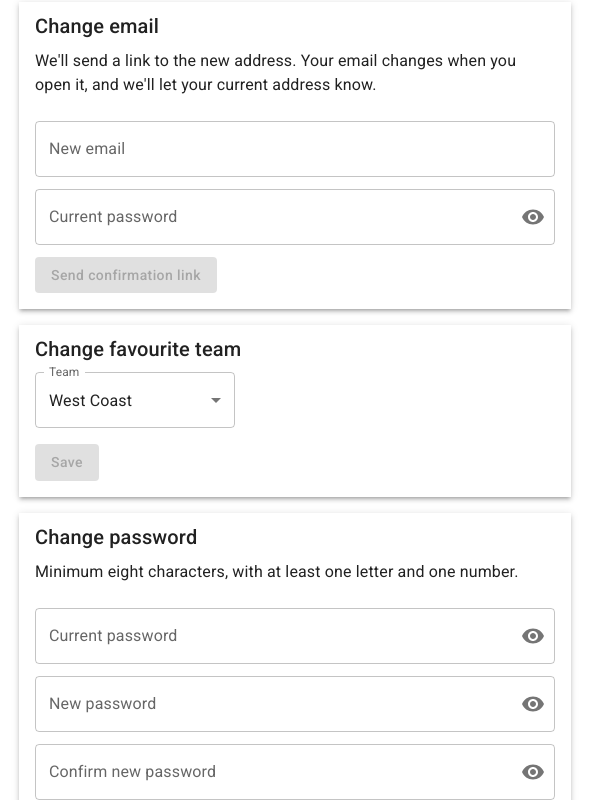
Test: change favourite team › and live once it does
(page scrolled)
Check: the button "Save" is disabled, box [35,444,99,481]
Click the dropdown: [91, 400] box [49,391,132,410]
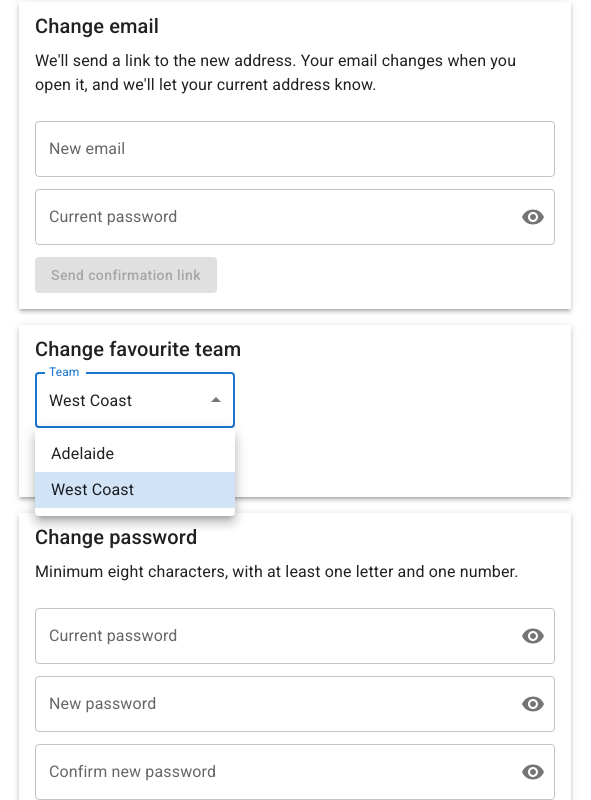
Click the option "Adelaide": [83, 454] box [51,444,114,463]
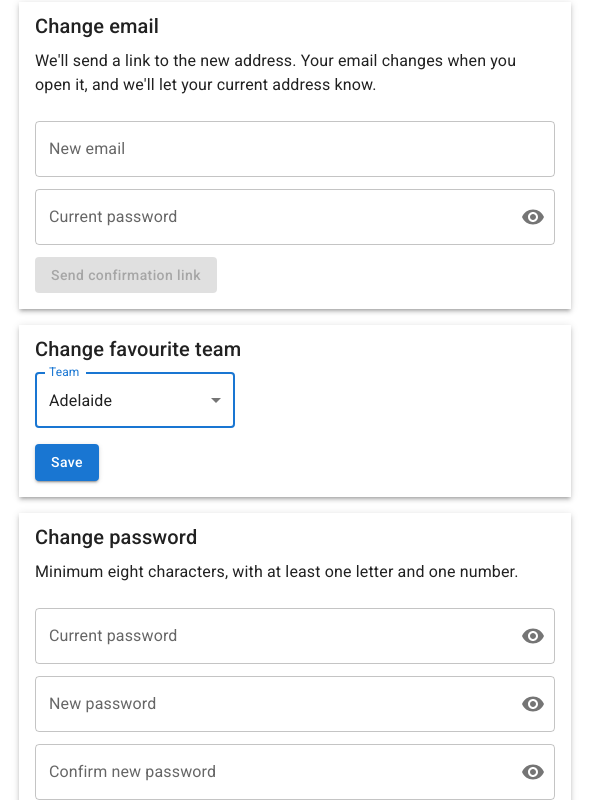
Check: the button "Save" is enabled, box [35,444,99,481]
